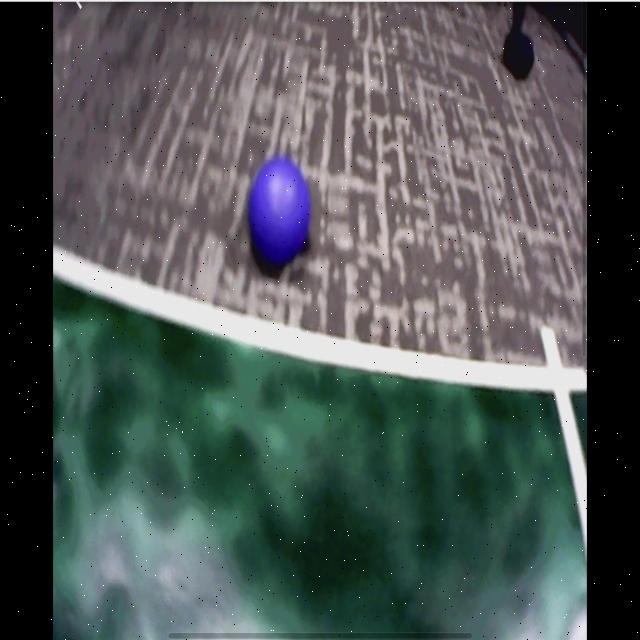ball: (251, 159, 311, 263)
